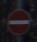No entry: (6, 6, 32, 37)
